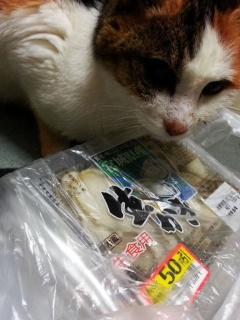Cat: (0, 0, 239, 144)
